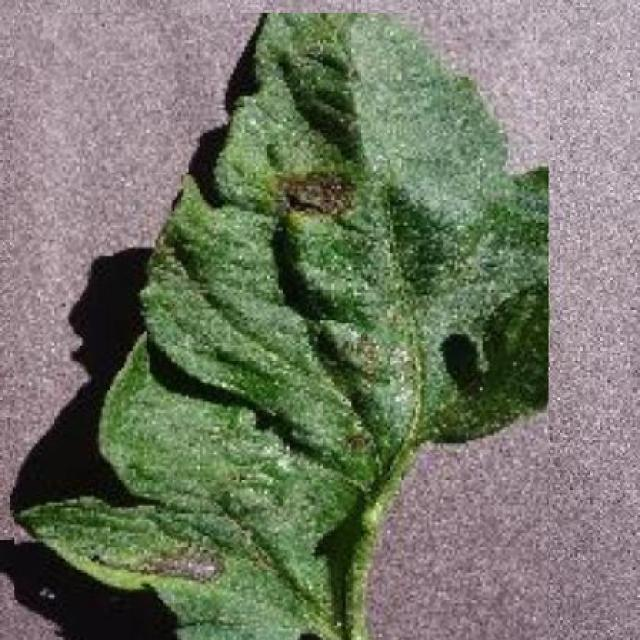Early Blight: (15, 13, 548, 640)
